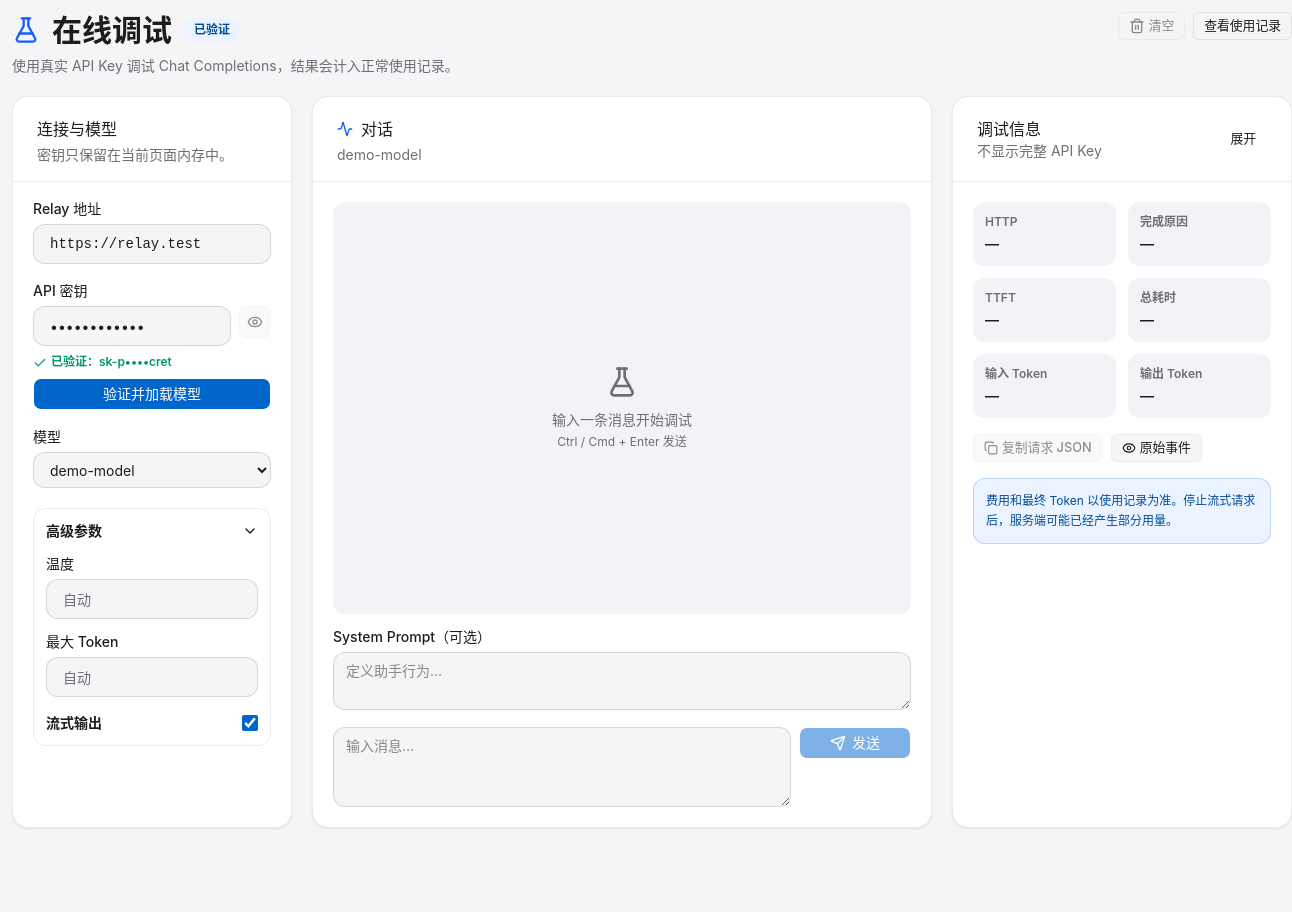
Scenario: PlaygroundPage › ignores late deltas, usage and completion after 停止 and a subsequent request
Expected: the text "已验证：sk-p••••cret" is shown, [33,354,172,370]
In the text box labelled "输入消息": (562, 767) [333,727,791,807], type "first"
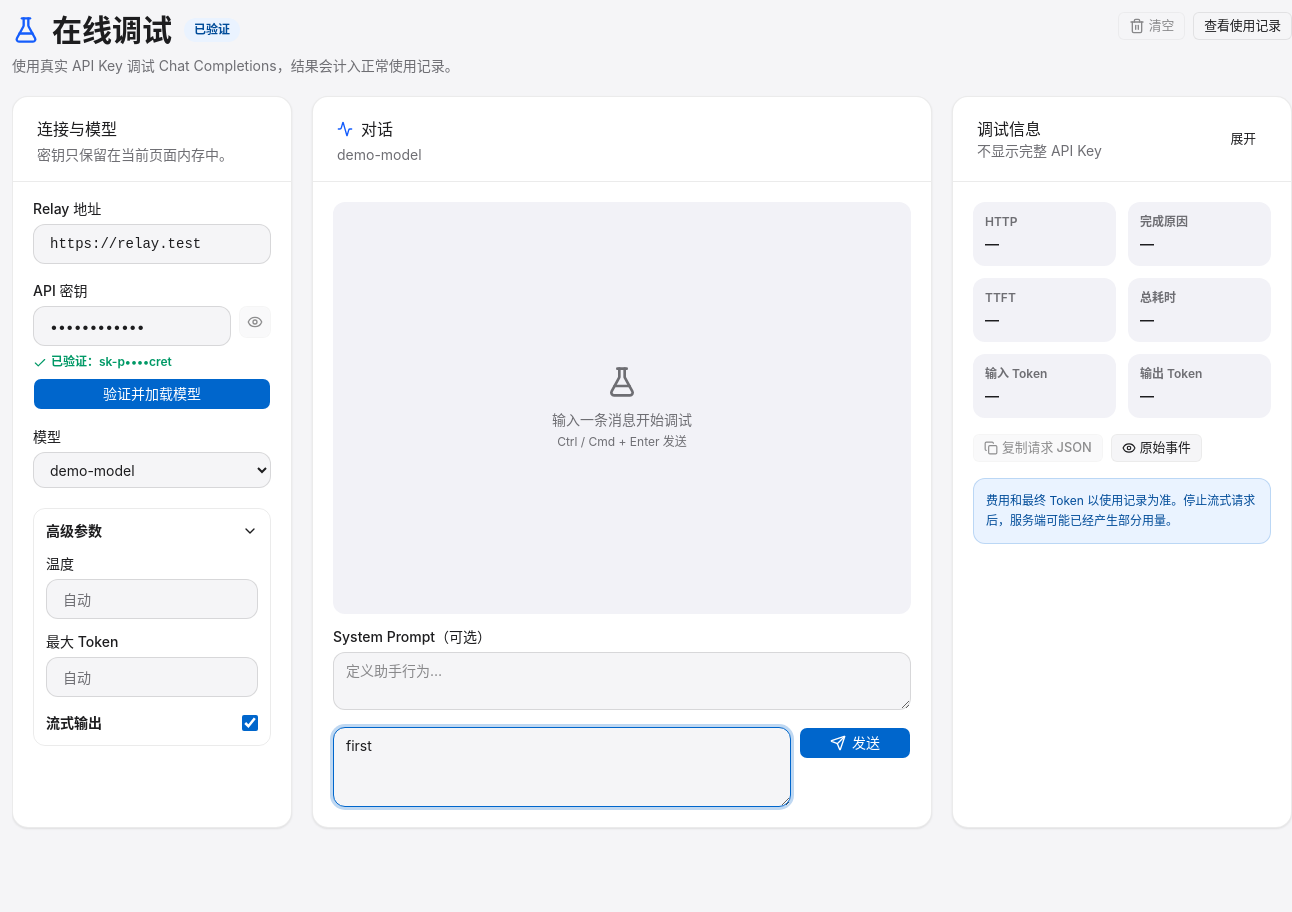
Click the button "发送": (855, 743) [799,727,911,759]
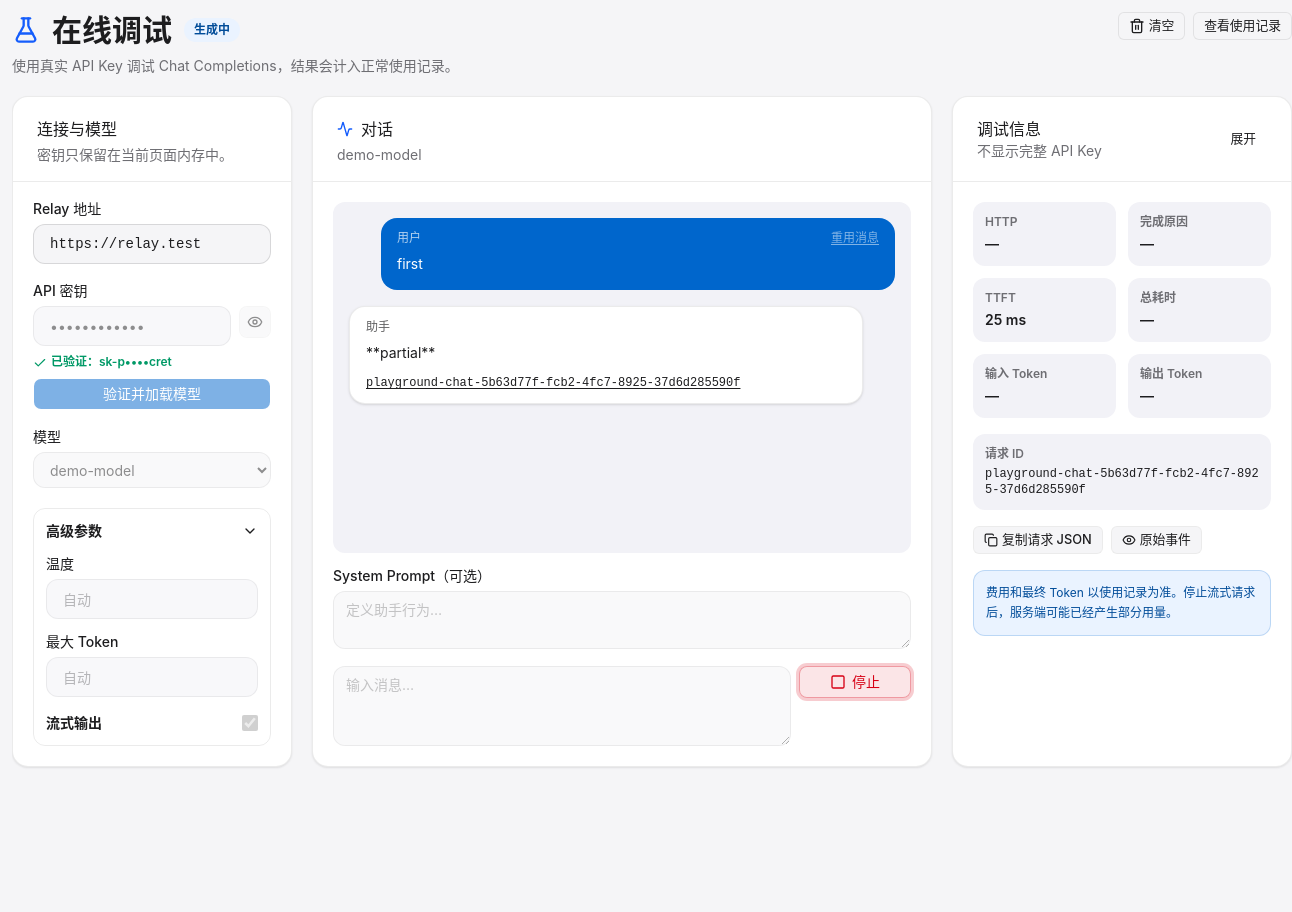
Expected: the text "**partial**" is shown, [366,344,435,361]
Click the button "停止": (855, 682) [799,666,911,698]
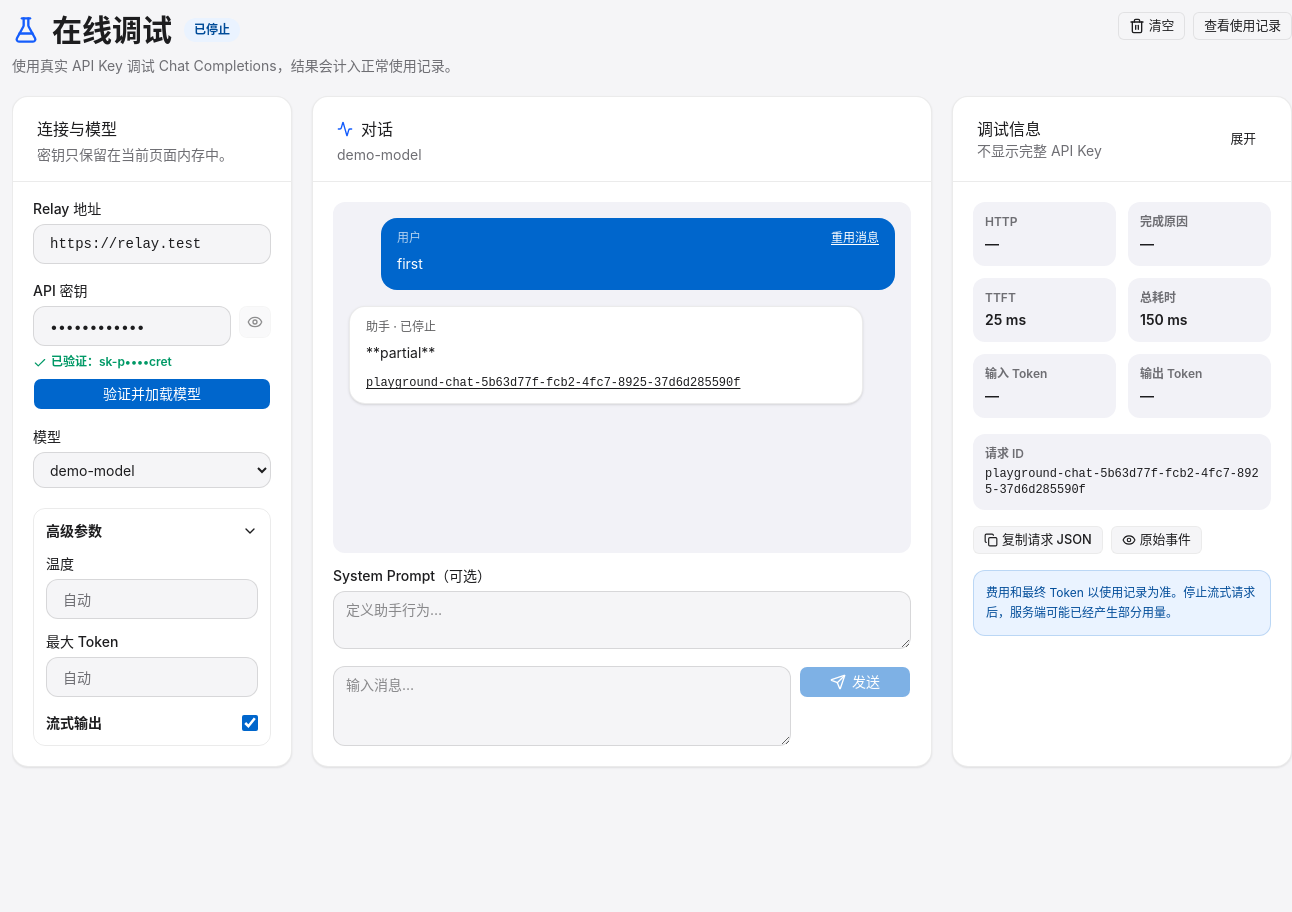
In the text box labelled "输入消息": (562, 706) [333,666,791,746], type "second"
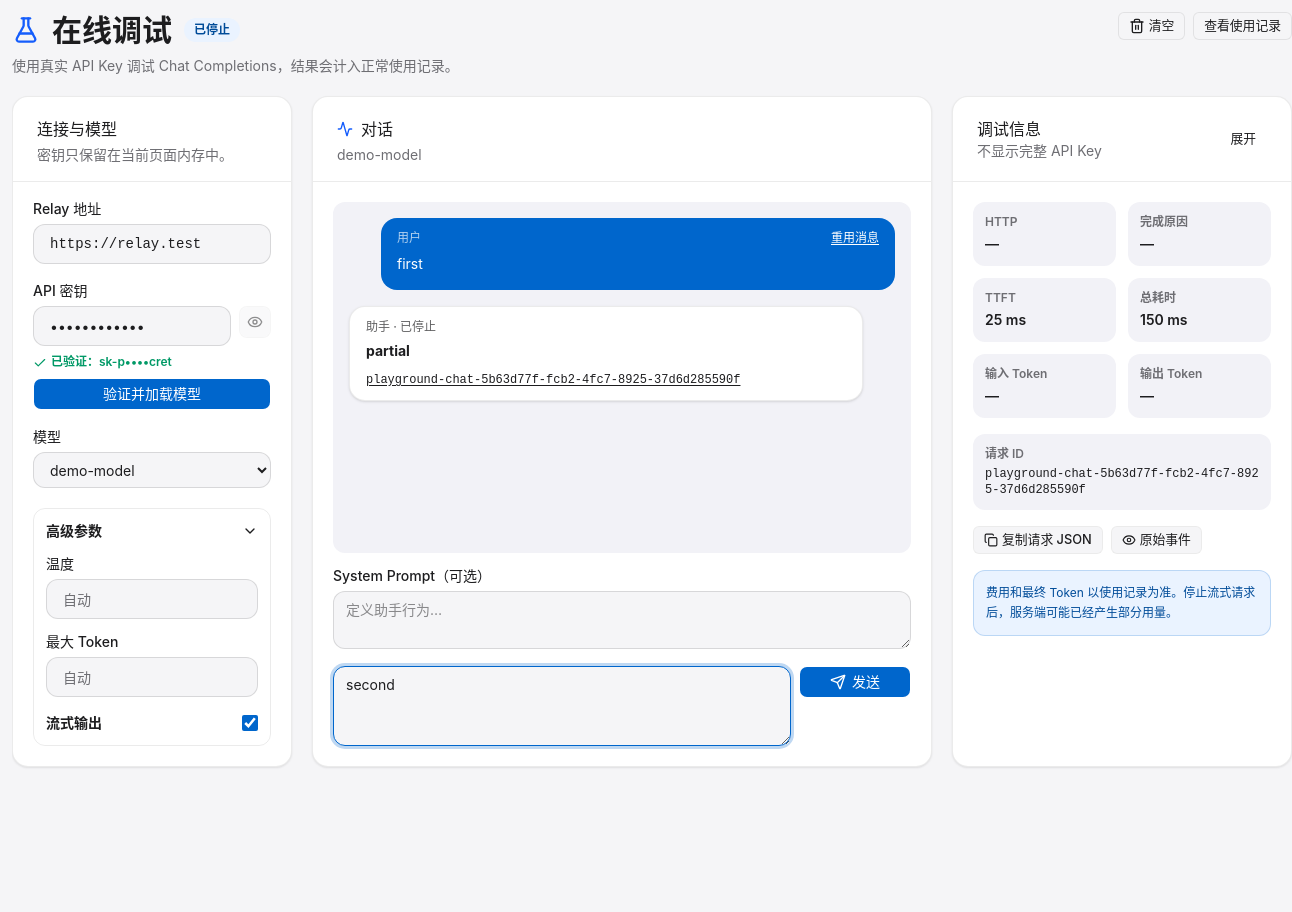
Click the button "发送": (855, 682) [799,666,911,698]
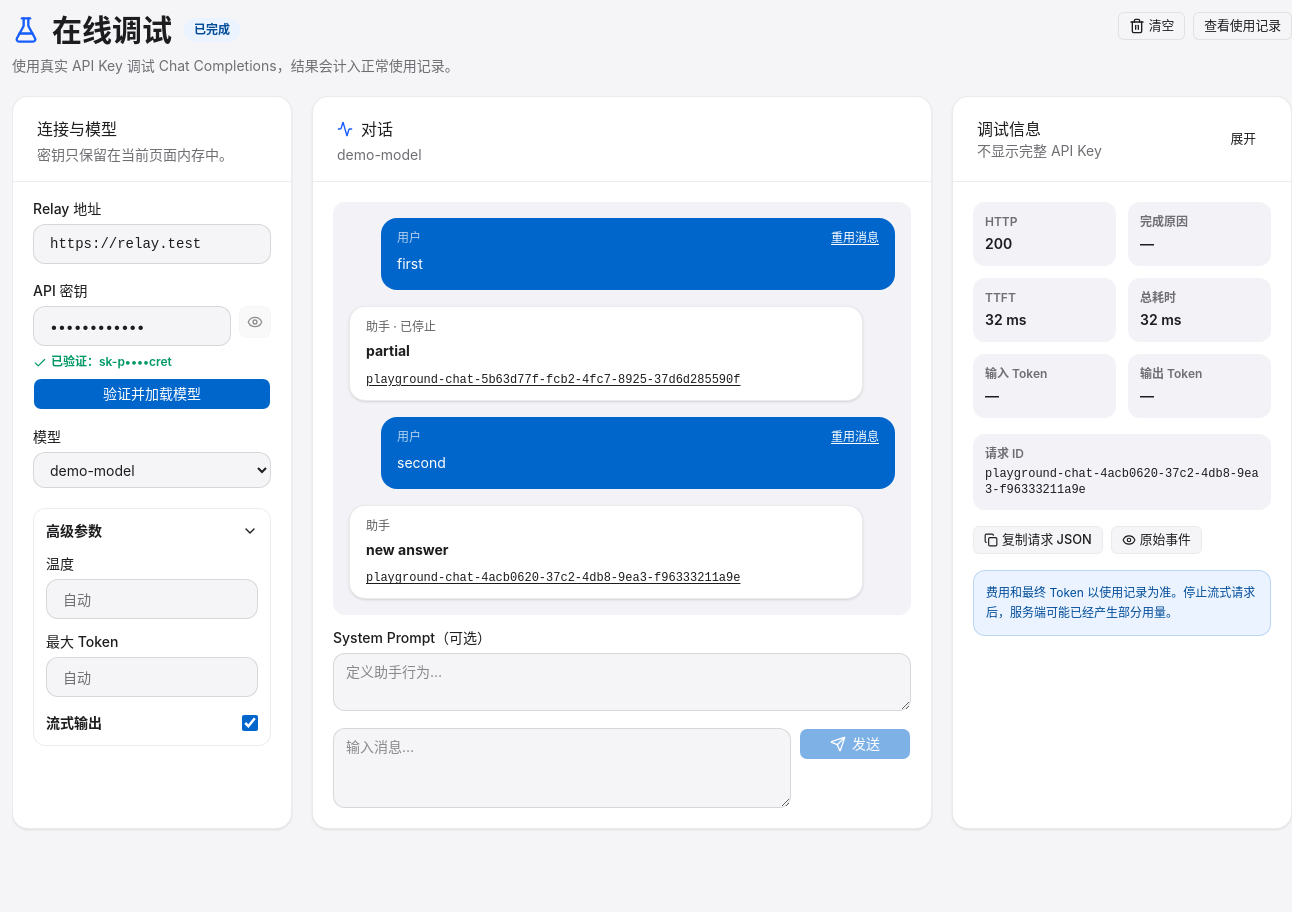
Expected: the text "new answer" is shown, [366,540,448,558]
Expected: the button "发送" is disabled, [799,728,911,760]
